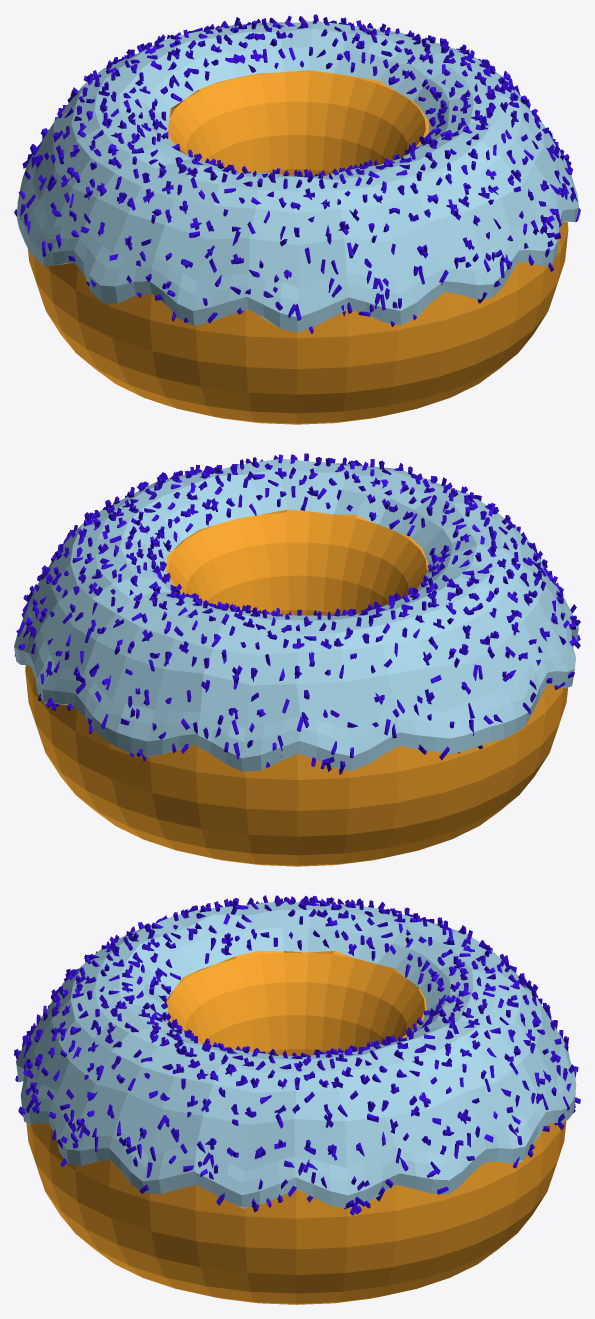
Rendered from donutPortalBlue.glb.
3 renders of one model, top to bottom at view 1: azimuth 30°, elevation 25°; view 2: azimuth 150°, elevation 25°; view 3: azimuth 270°, elevation 25°, orthographic.
Visible parts, largest first — view 1: donut.001; view 2: donut.001; view 3: donut.001.
Boxes of the visible parts, x1,y1,x2,y2 form: donut.001: (14,14,580,424); donut.001: (14,453,580,866); donut.001: (14,895,580,1304).
Bounding box in the file's own units: 0.991 × 0.4806 × 0.9999.
